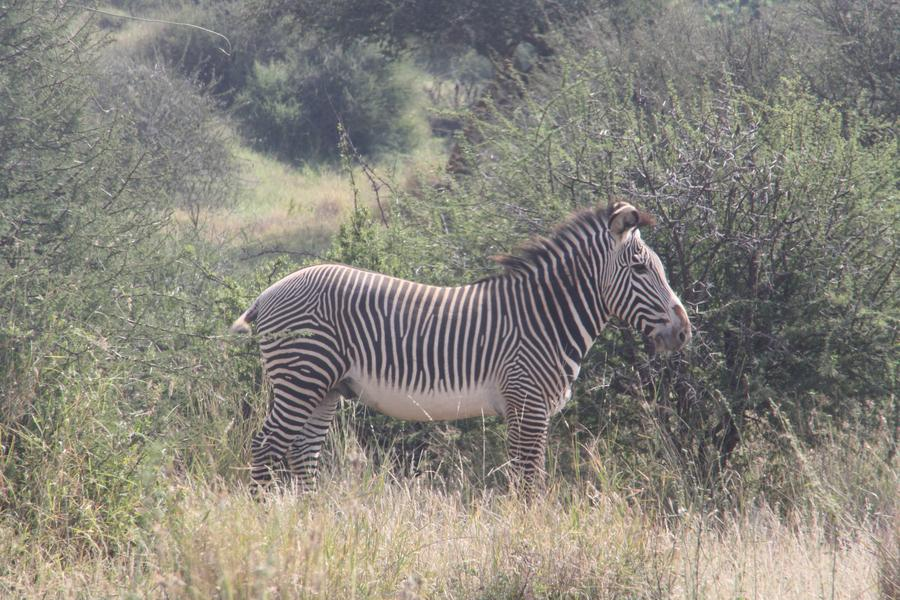zebra_grevys: (246, 244, 554, 419)
